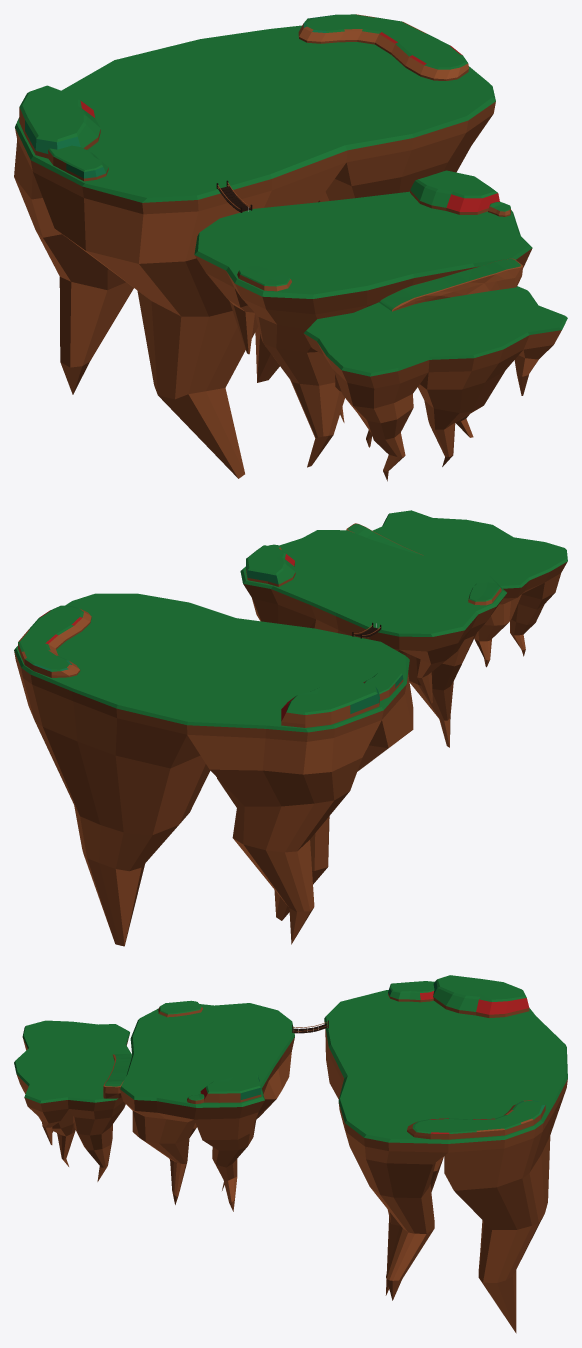
Rendered from Landscape_FBX_01.fbx.
3 renders of one model, top to bottom at view 1: azimuth 30°, elevation 25°; view 2: azimuth 150°, elevation 25°; view 3: azimuth 270°, elevation 25°, orthographic. The views are drawn at different scales.
Visible parts, largest first — view 1: Platform_003, Platform_002, Platform_001, Box008, Box006, Ramp, Box004, Box007, Box003; view 2: Platform_003, Platform_002, Platform_001, Box008, Box006, Box004, Box007, Box003; view 3: Platform_003, Platform_002, Platform_001, Box006, Box008, Box004, Box007, Ramp, Box003.
Boxes of the visible parts, x1,y1,x2,y2 form: Platform_003: [14, 25, 495, 478]; Platform_002: [194, 191, 532, 467]; Platform_001: [303, 286, 567, 481]; Box008: [298, 14, 468, 80]; Box006: [19, 85, 100, 158]; Ramp: [379, 258, 523, 311]; Box004: [410, 170, 499, 214]; Box007: [48, 145, 108, 181]; Box003: [237, 265, 291, 291]; Platform_003: [14, 593, 413, 946]; Platform_002: [240, 530, 506, 747]; Platform_001: [372, 510, 567, 667]; Box008: [18, 605, 91, 677]; Box006: [281, 681, 379, 727]; Box004: [246, 545, 295, 586]; Box007: [363, 670, 403, 700]; Box003: [468, 582, 501, 605]; Platform_003: [324, 990, 567, 1333]; Platform_002: [120, 1003, 294, 1211]; Platform_001: [14, 1020, 131, 1181]; Box006: [433, 975, 529, 1018]; Box008: [407, 1100, 545, 1139]; Box004: [200, 1074, 261, 1102]; Box007: [388, 981, 434, 1002]; Ramp: [103, 1054, 132, 1098]; Box003: [158, 1000, 202, 1017].
Bounding box in the file's own units: 16521 × 12984 × 24751.
